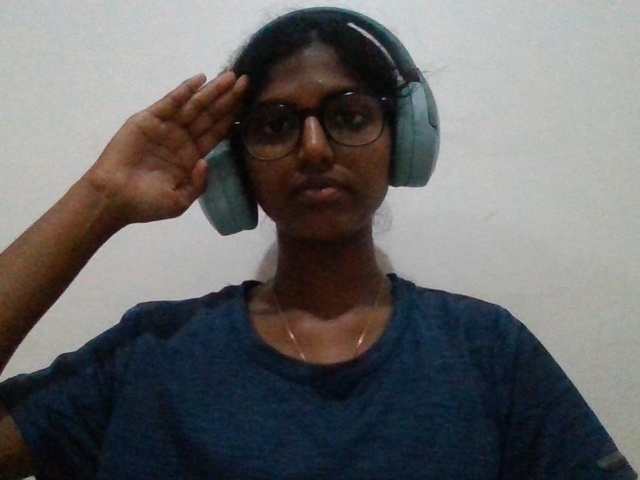Hello: (7, 24, 316, 341)
